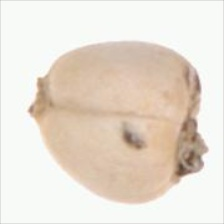L3: (26, 75, 55, 123)
L4: (28, 41, 202, 205)
